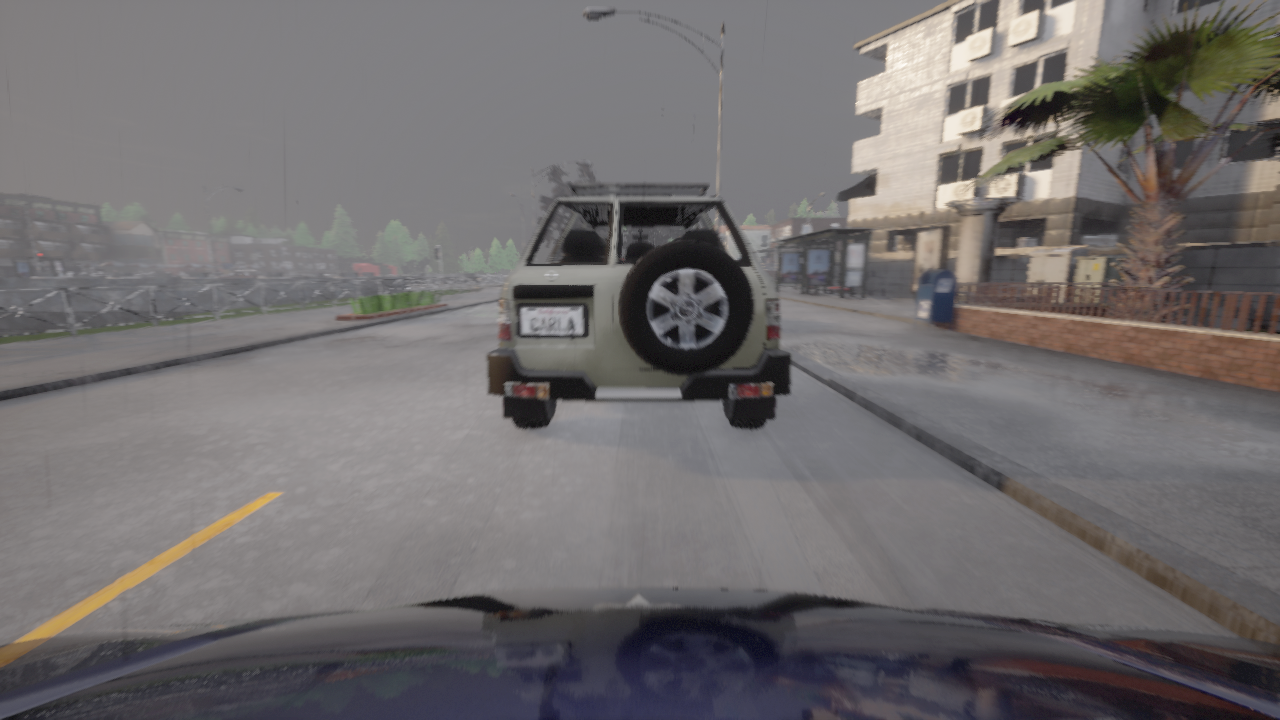cyclist: (0, 588, 1279, 719), (486, 183, 791, 429), (219, 271, 263, 277)
